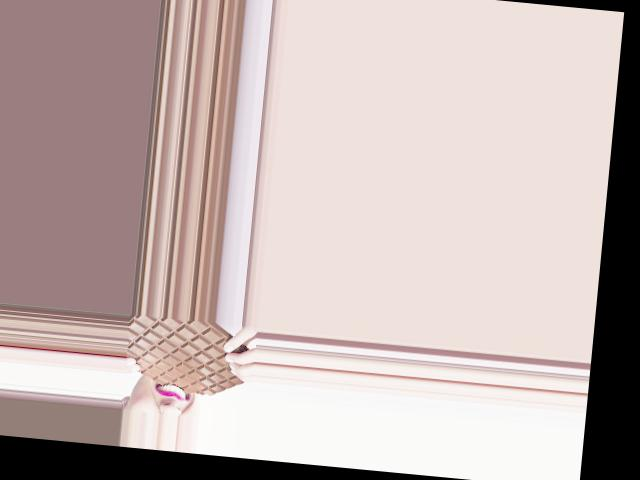chocolate: (124, 314, 258, 402)
